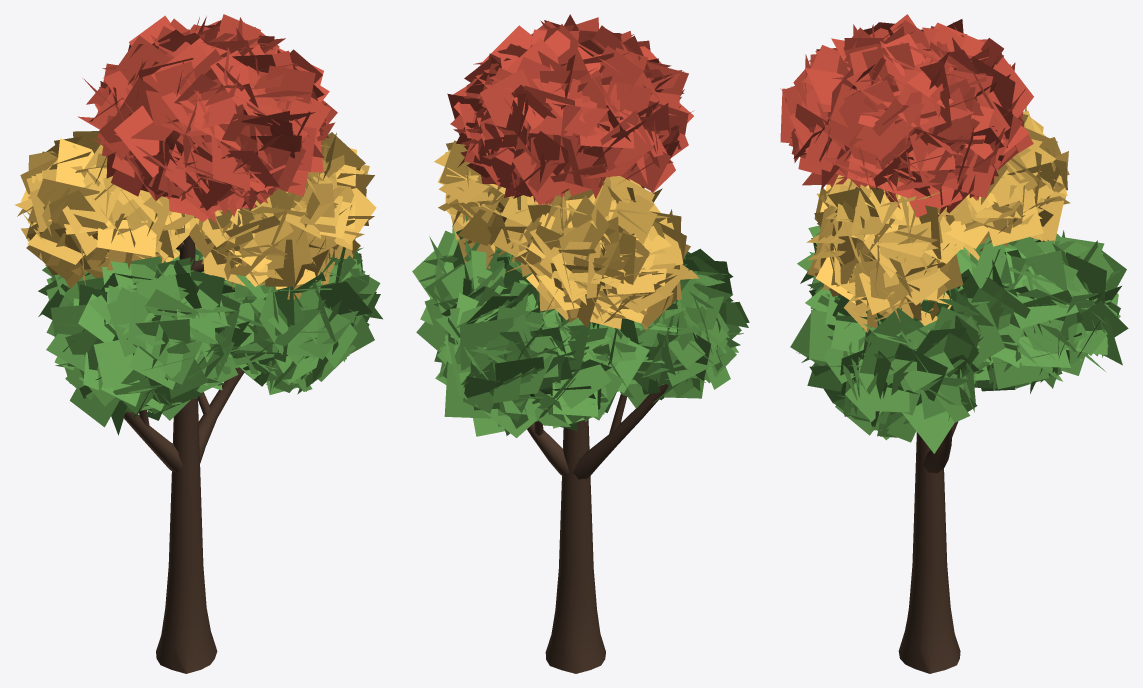
The model's file is mapleHD.glb.
3 views of the same model, side by side, from view 1: azimuth 30°, elevation 25°; view 2: azimuth 150°, elevation 25°; view 3: azimuth 270°, elevation 25° (orthographic). The views are drawn at different scales.
Size of the model in its own units: 3.29 by 6.43 by 3.21.
